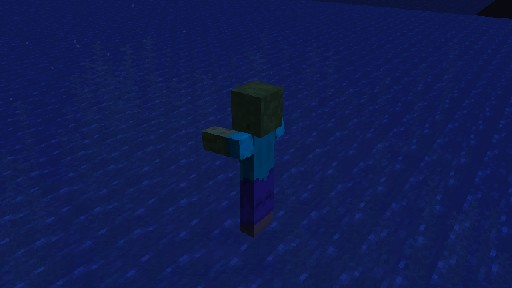zombie: (201, 79, 285, 237)
